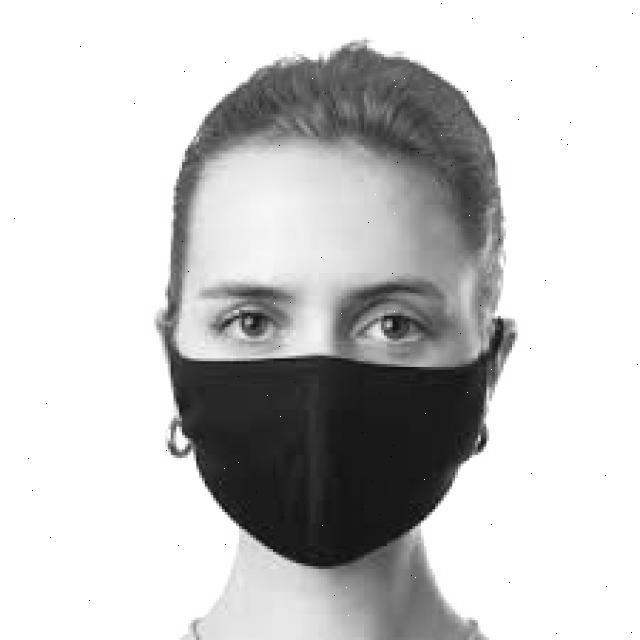fake: (119, 325, 515, 577)
real: (184, 150, 475, 575)
